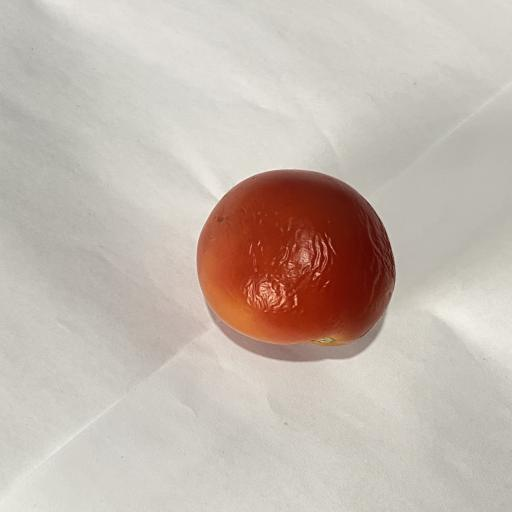spoiled: (197, 170, 395, 346)
